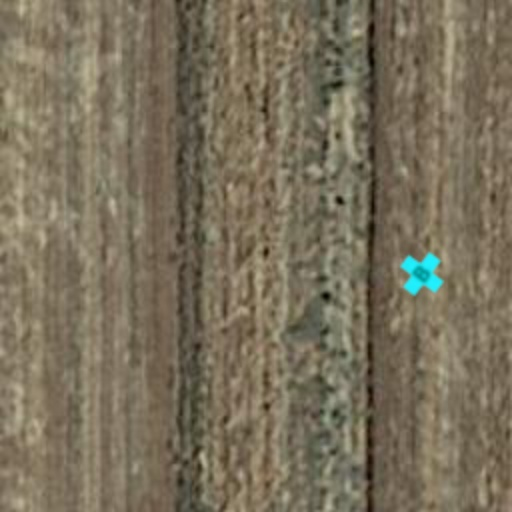cross: (390, 242, 454, 306)
